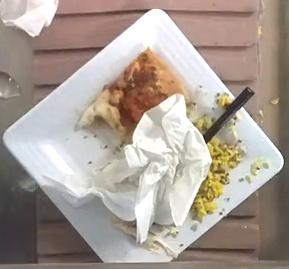pizza_crust: (77, 48, 185, 150)
rice: (191, 137, 242, 219)
